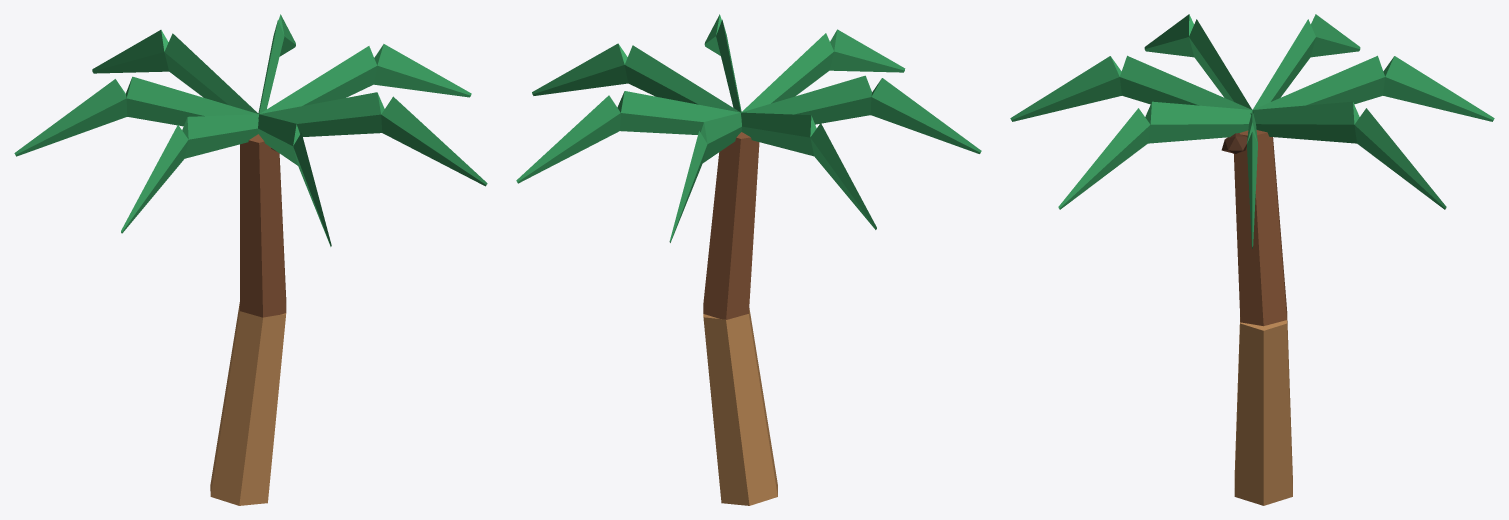
Rendered from CA_Palmera.obj.
3 renders of one model, left to right at view 1: azimuth 30°, elevation 25°; view 2: azimuth 150°, elevation 25°; view 3: azimuth 270°, elevation 25°, orthographic. The views are drawn at different scales.
Parts seen in each view (by area): view 1: CA_Palmera; view 2: CA_Palmera; view 3: CA_Palmera.
Part boxes in pixels (left/top/right/bottom): CA_Palmera: left=14, top=14, right=487, bottom=505; CA_Palmera: left=516, top=14, right=981, bottom=505; CA_Palmera: left=1010, top=14, right=1494, bottom=505.
Size of the model in its own units: 4.2 by 4.23 by 4.31.
